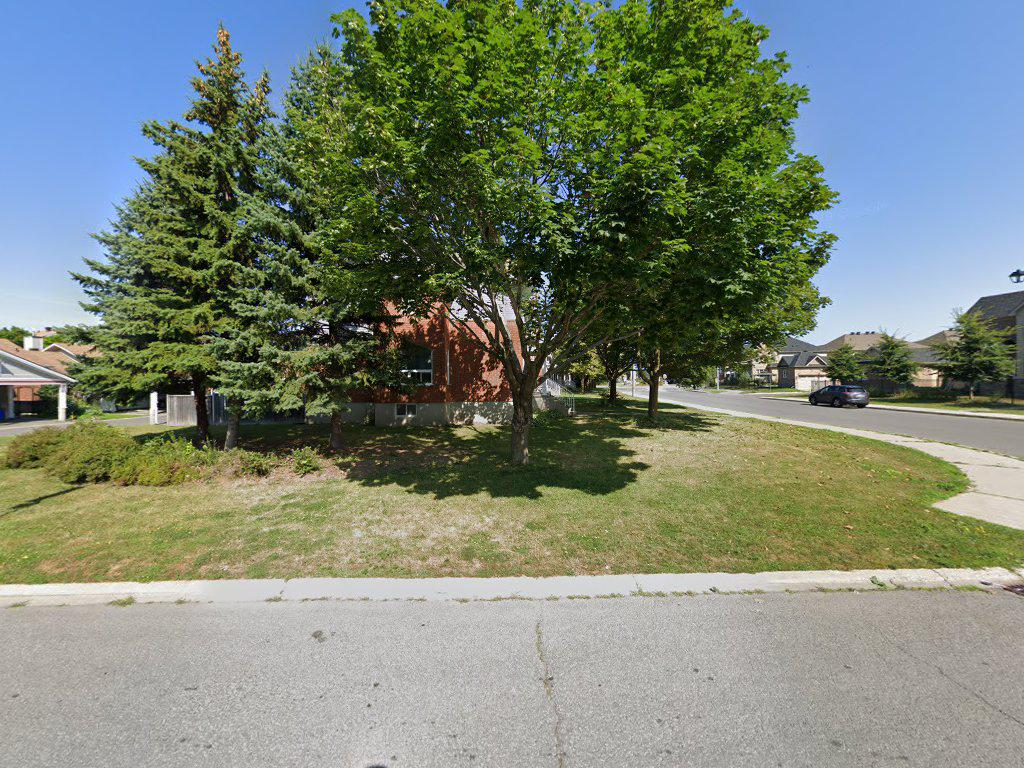trunk: (506, 345, 537, 476)
